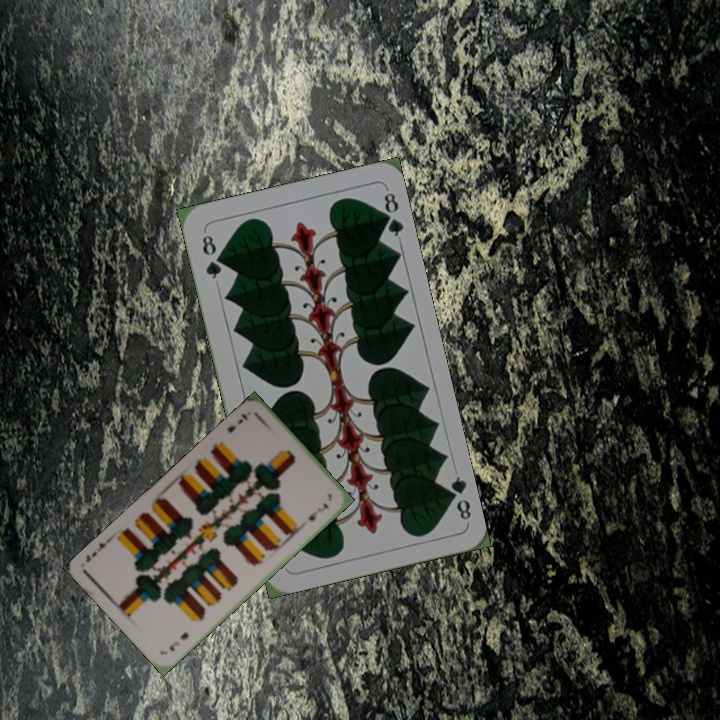E7: (223, 409, 251, 435), (165, 628, 192, 654)
G8: (441, 472, 474, 523), (198, 230, 225, 282)
